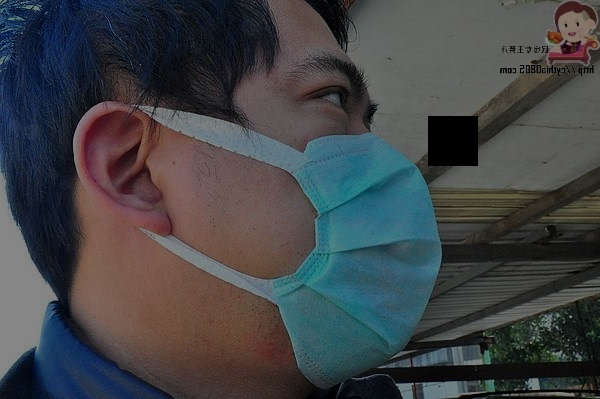with_mask: (177, 51, 446, 391)
